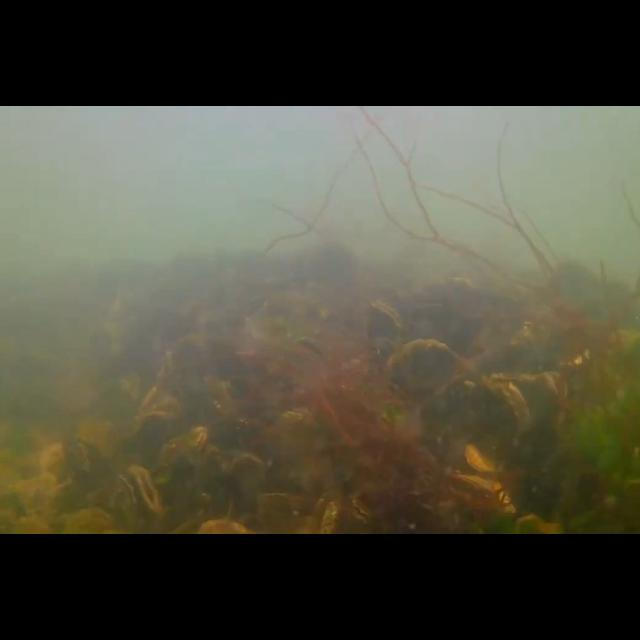Oyster-Closed: (384, 338, 474, 394), (461, 378, 534, 447), (492, 369, 570, 426), (448, 468, 518, 514), (230, 452, 270, 522), (140, 350, 174, 422), (462, 442, 518, 476)
Oyster-Open: (108, 465, 162, 535), (153, 427, 209, 471), (368, 298, 406, 358), (136, 396, 184, 428), (310, 493, 340, 535)
